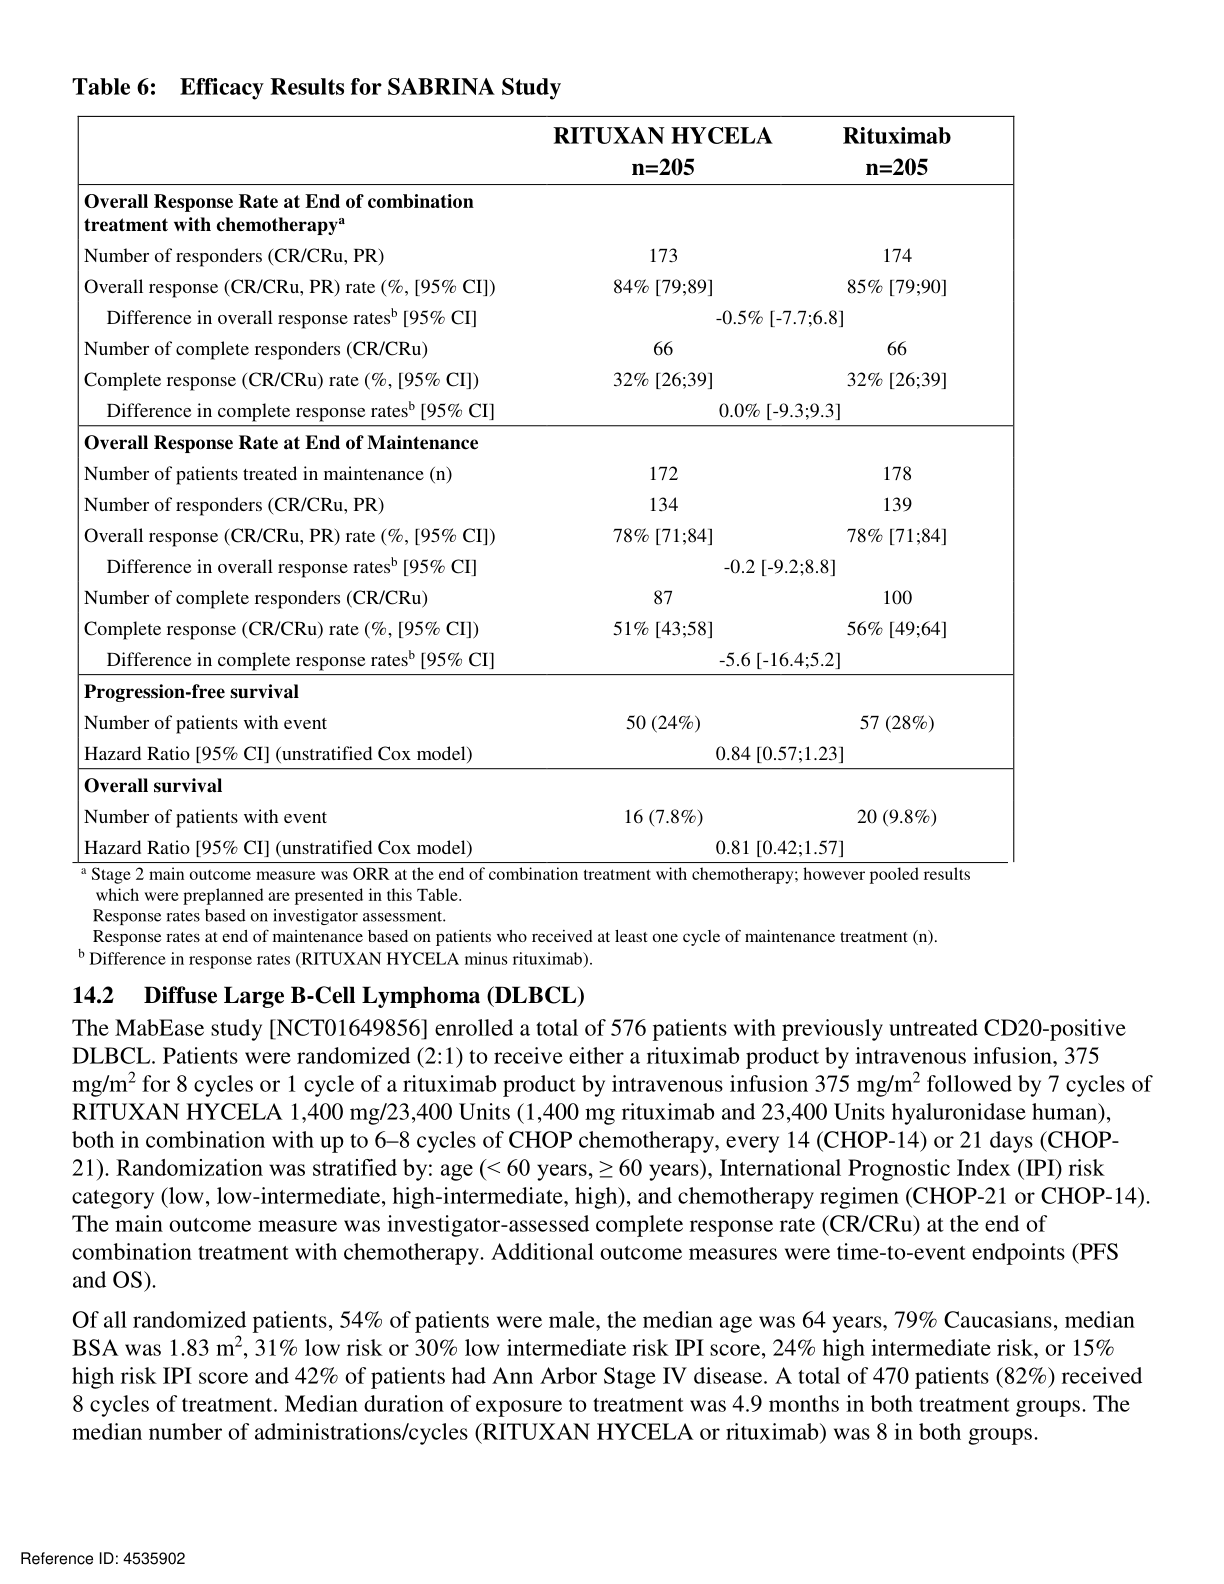partial_lined: (77, 114, 1017, 865)
